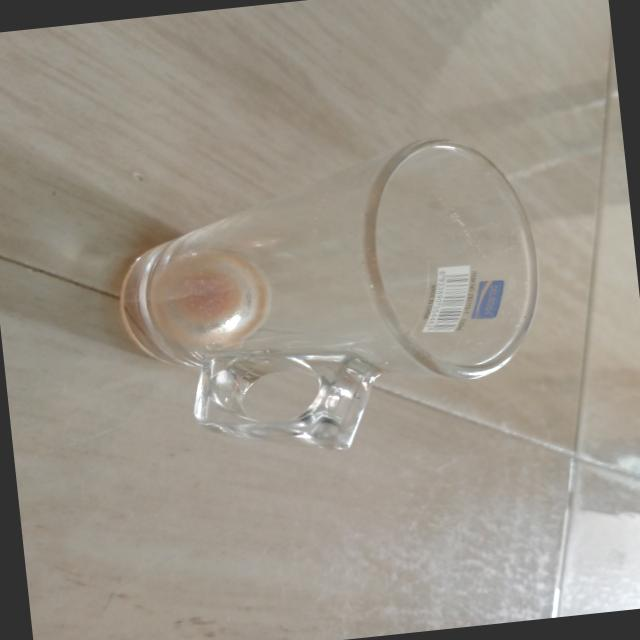glass-VX4N: (100, 127, 562, 478)
